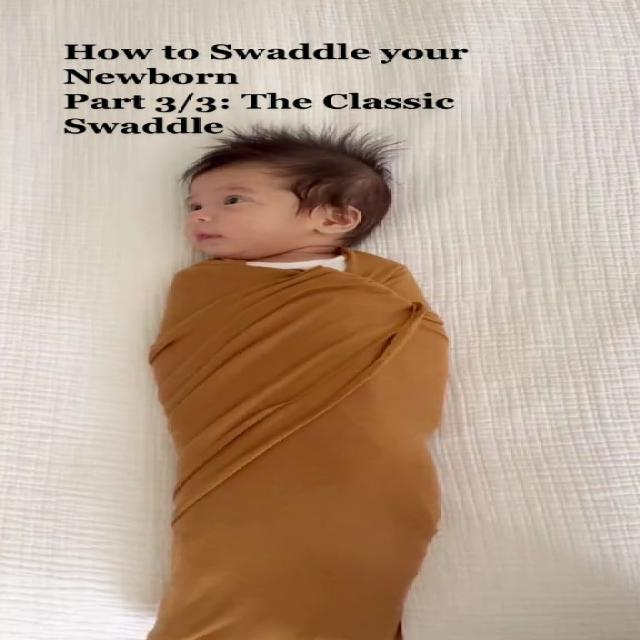baby: (146, 128, 487, 640)
